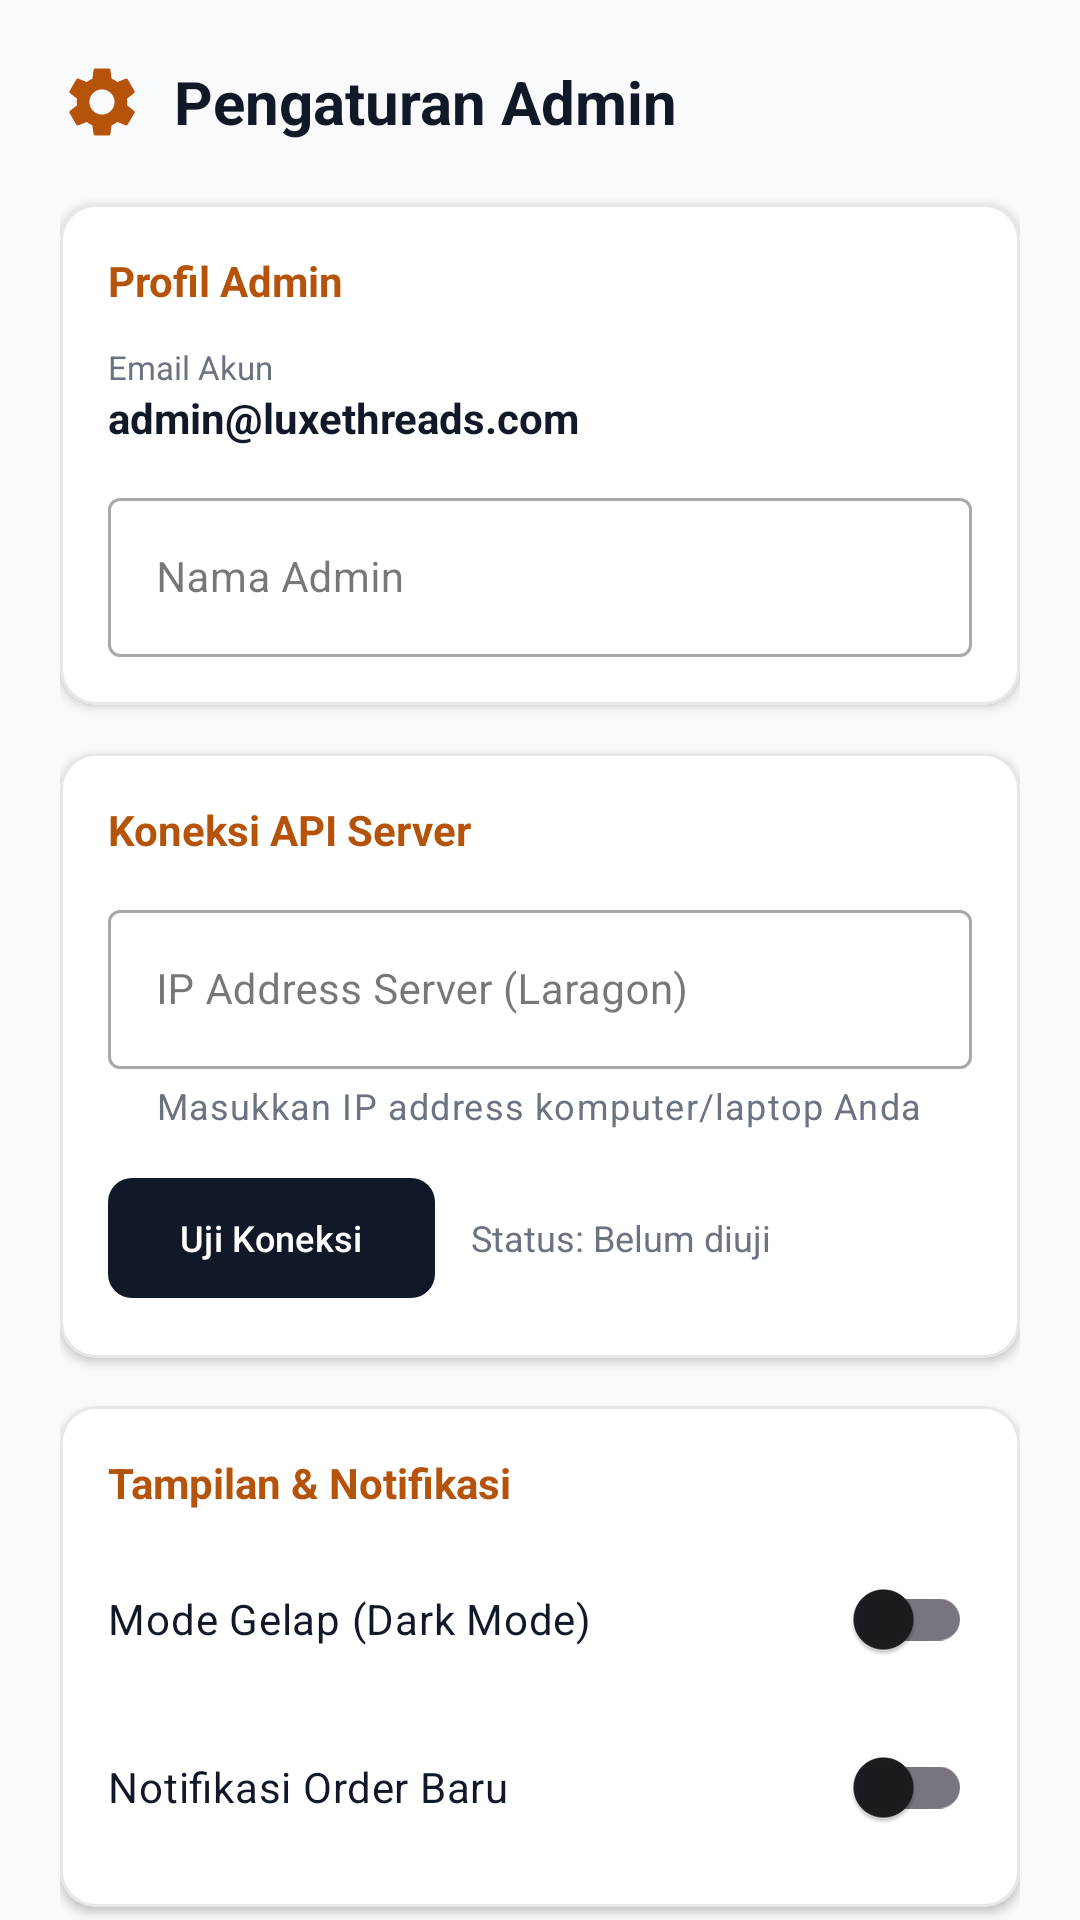

Where to tap for icons on this 1080w x 1920h app screen, as point (x, y):
settings: point (102, 102)
